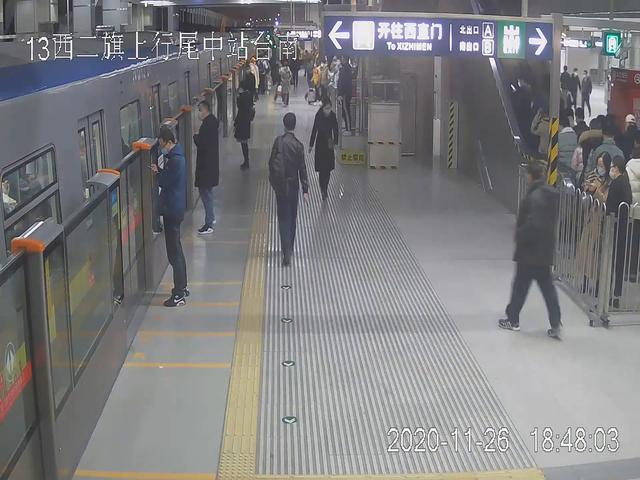person: (501, 160, 563, 340), (152, 126, 193, 306), (268, 112, 310, 268), (191, 100, 221, 234), (311, 97, 343, 202), (232, 80, 254, 171)
